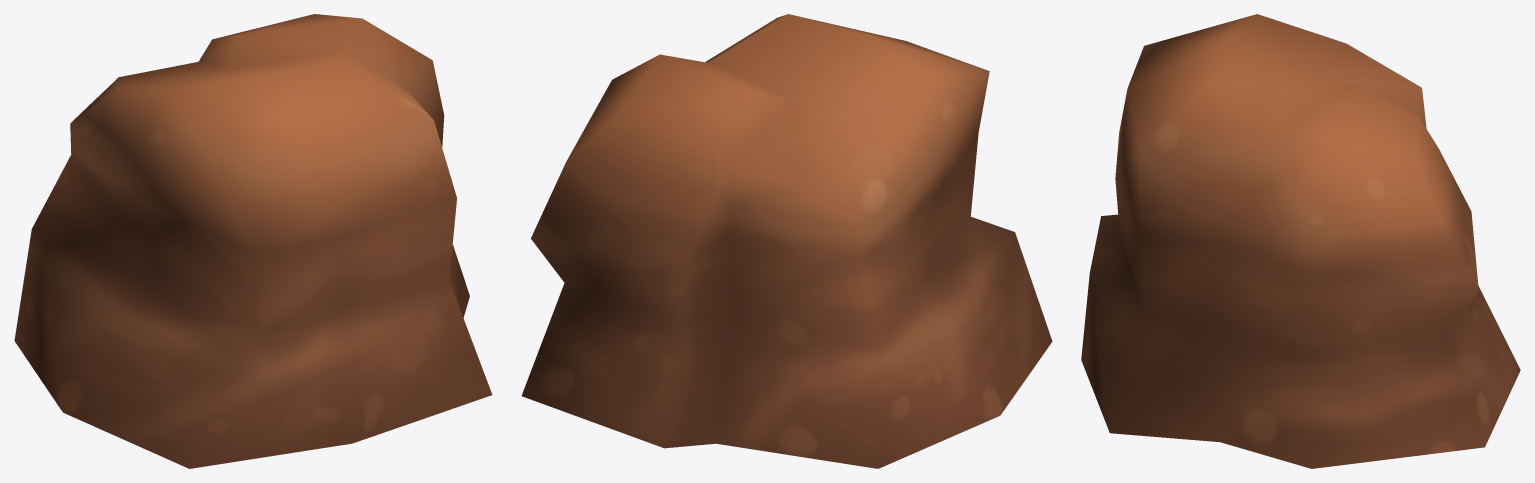
Rendered from RockFormation_02.fbx.
3 renders of one model, left to right at view 1: azimuth 30°, elevation 25°; view 2: azimuth 150°, elevation 25°; view 3: azimuth 270°, elevation 25°, orthographic. The views are drawn at different scales.
Parts seen in each view (by area): view 1: RockFormation_02_GEO1; view 2: RockFormation_02_GEO1; view 3: RockFormation_02_GEO1.
Part boxes in pixels (x1,y1,x2,y2): RockFormation_02_GEO1: [14, 14, 492, 468]; RockFormation_02_GEO1: [521, 14, 1052, 468]; RockFormation_02_GEO1: [1081, 14, 1520, 468].
Size of the model in its own units: 8.22 by 5.94 by 7.65.
